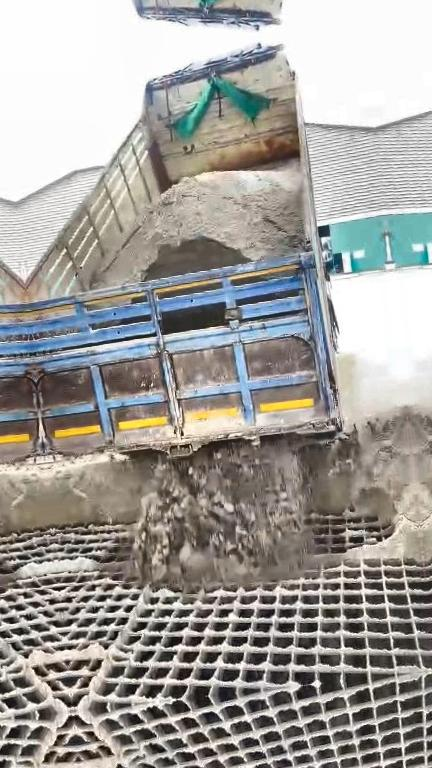sand: (47, 407, 423, 593), (112, 161, 306, 281), (55, 531, 117, 584), (162, 305, 224, 334), (66, 637, 111, 659)
